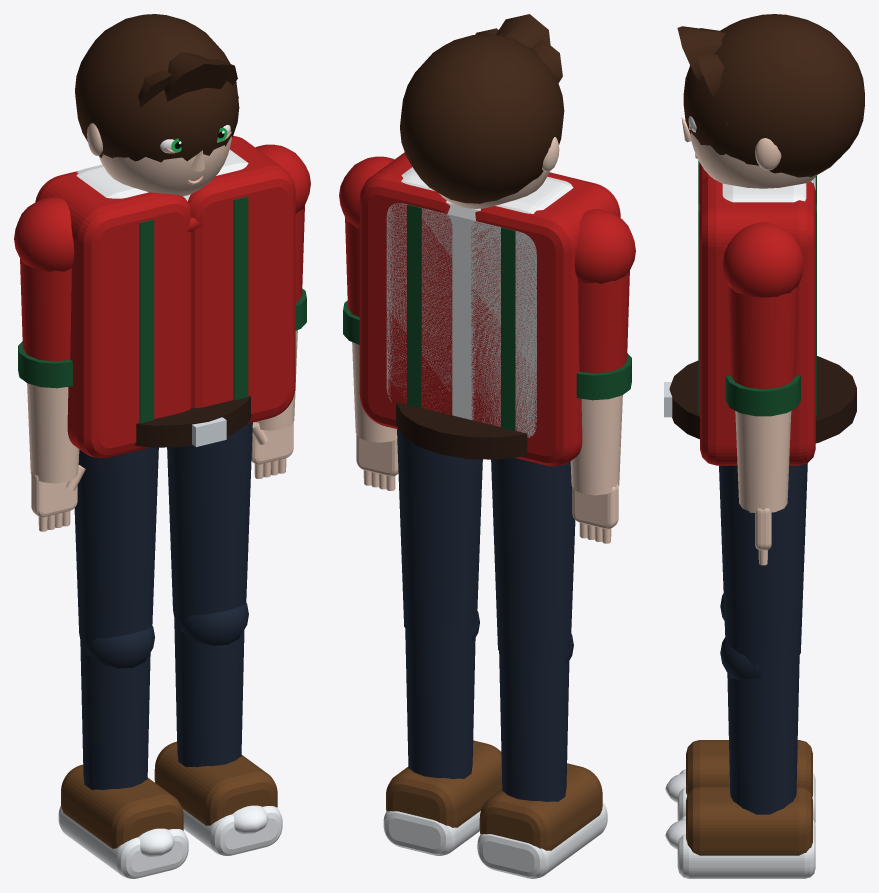
File: hero_player.glb
The picture shows the model from 3 angles, left to right: view 1: azimuth 30°, elevation 25°; view 2: azimuth 150°, elevation 25°; view 3: azimuth 270°, elevation 25°; orthographic projection.
Parts seen in each view (by area): view 1: Torso_Assembly, Leg_Left, Leg_Right, Head_Assembly, Arm_Left, Arm_Right; view 2: Torso_Assembly, Leg_Left, Leg_Right, Head_Assembly, Arm_Left, Arm_Right; view 3: Leg_Right, Head_Assembly, Torso_Assembly, Arm_Right, Leg_Left.
Part boxes in pixels (x1=…): Torso_Assembly: x1=35, y1=136, x2=295, y2=458; Leg_Left: x1=58, y1=447, x2=188, y2=878; Leg_Right: x1=154, y1=422, x2=282, y2=855; Head_Assembly: x1=75, y1=14, x2=239, y2=195; Arm_Left: x1=14, y1=197, x2=85, y2=531; Arm_Right: x1=251, y1=144, x2=310, y2=478; Torso_Assembly: x1=359, y1=152, x2=620, y2=466; Leg_Left: x1=477, y1=457, x2=607, y2=878; Leg_Right: x1=383, y1=429, x2=502, y2=855; Head_Assembly: x1=400, y1=14, x2=564, y2=208; Arm_Left: x1=570, y1=209, x2=635, y2=543; Arm_Right: x1=339, y1=156, x2=398, y2=490; Leg_Right: x1=665, y1=463, x2=815, y2=878; Head_Assembly: x1=677, y1=14, x2=864, y2=188; Torso_Assembly: x1=664, y1=160, x2=856, y2=465; Arm_Right: x1=723, y1=222, x2=803, y2=565; Leg_Left: x1=665, y1=593, x2=815, y2=823.
Size of the model in its own units: 0.61 by 1.65 by 0.3642.
